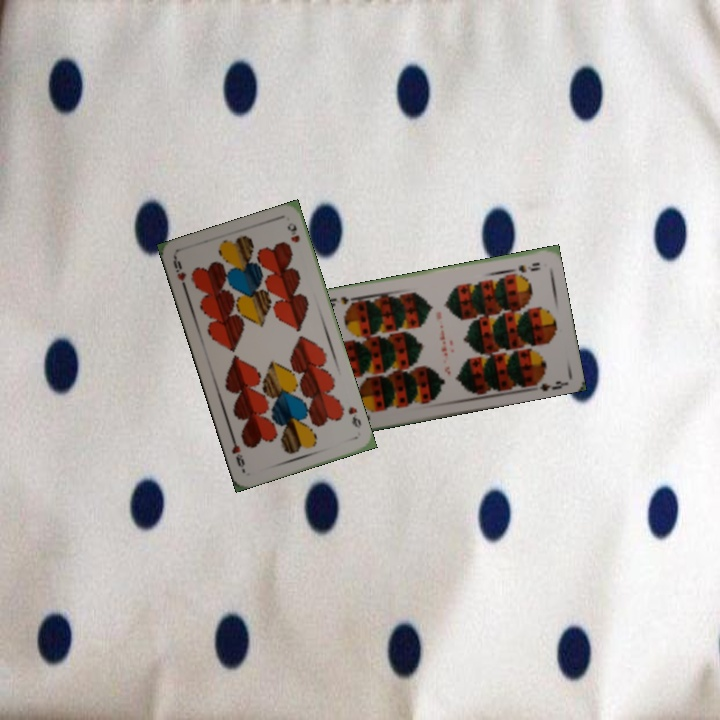H9: (169, 254, 189, 294), (344, 403, 364, 431)
S9: (514, 258, 543, 275)
